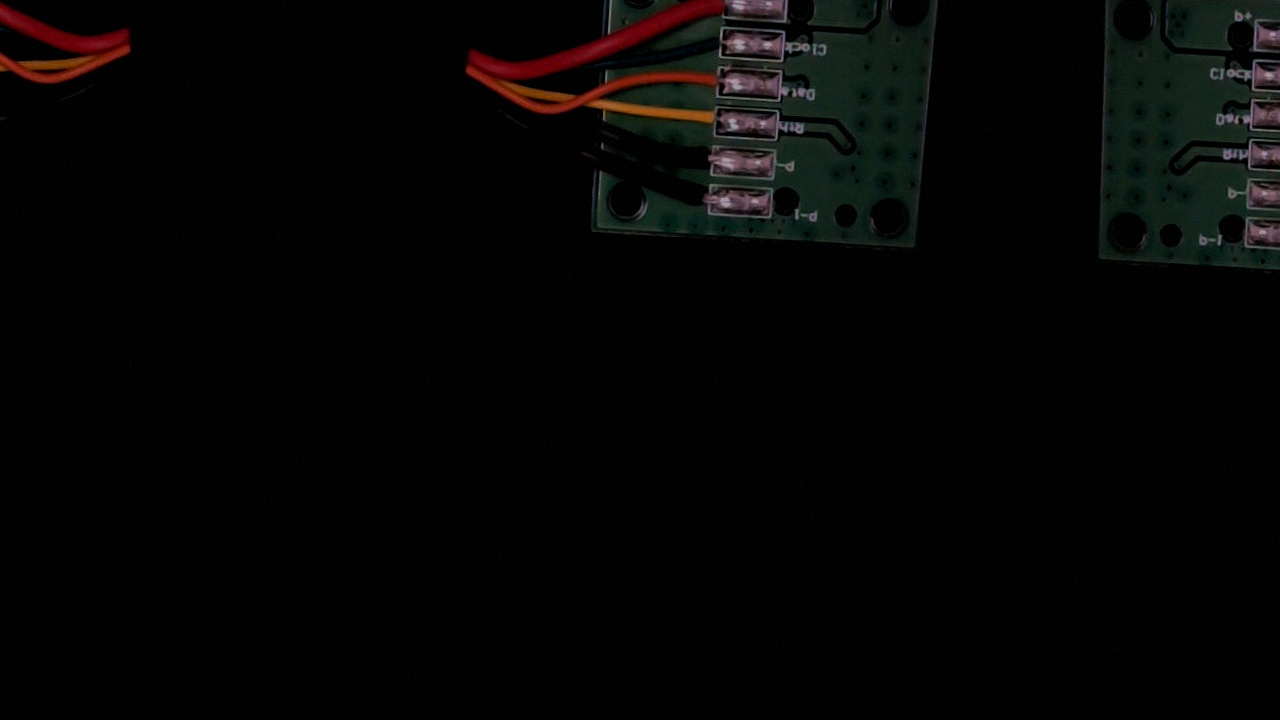Black: (661, 140, 729, 175)
Black1: (656, 182, 725, 219)
Green: (676, 23, 739, 60)
Orange: (673, 63, 737, 97)
Red: (671, 0, 743, 19)
Yellow: (666, 104, 732, 135)
